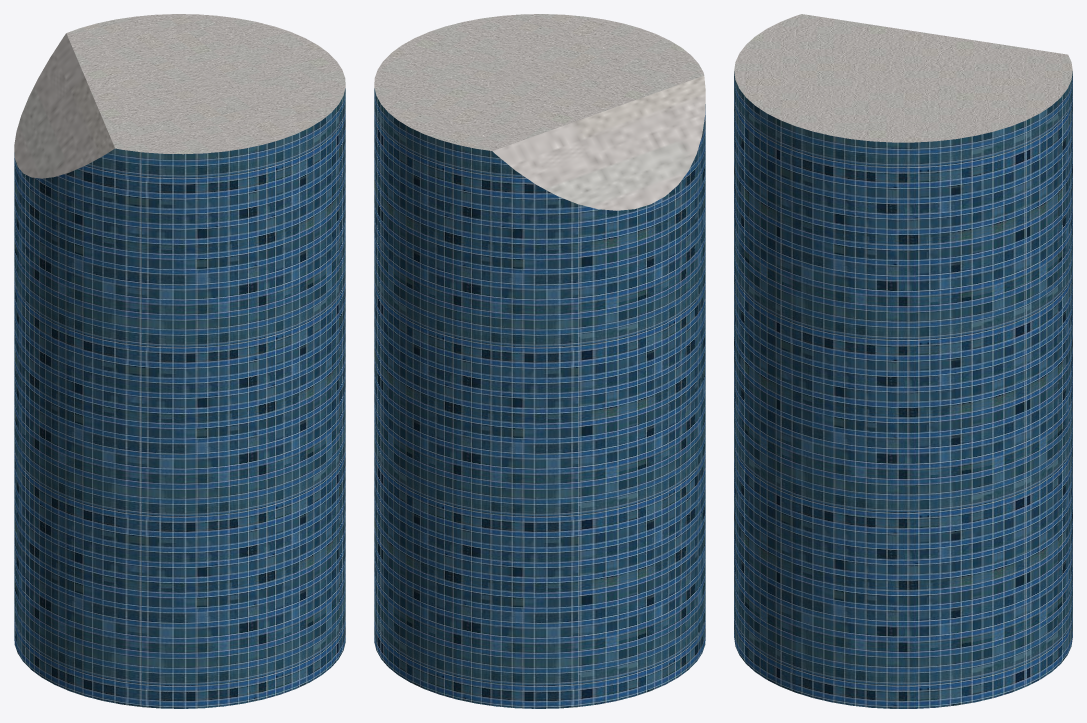
Rendered from building22.gltf.
3 views of the same model, side by side, from view 1: azimuth 30°, elevation 25°; view 2: azimuth 150°, elevation 25°; view 3: azimuth 270°, elevation 25° (orthographic). The views are drawn at different scales.
Parts seen in each view (by area): view 1: building22; view 2: building22; view 3: building22.
Part boxes in pixels (bbox=[...]): building22: bbox=[14, 14, 345, 708]; building22: bbox=[374, 14, 705, 708]; building22: bbox=[734, 14, 1072, 708].
Bounding box in the file's own units: 4.63 × 8.55 × 4.64.
2 materials, 2 textured.
